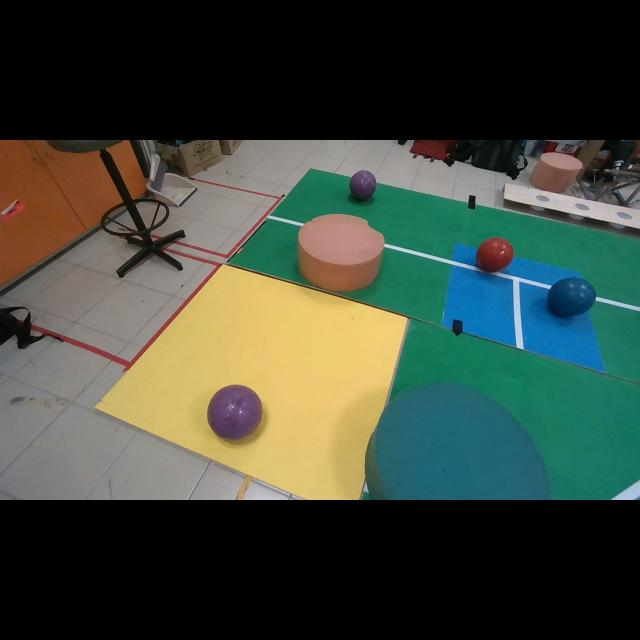B: (548, 279, 596, 317)
P: (208, 385, 262, 439), (350, 170, 376, 201)
R: (476, 238, 514, 272)
